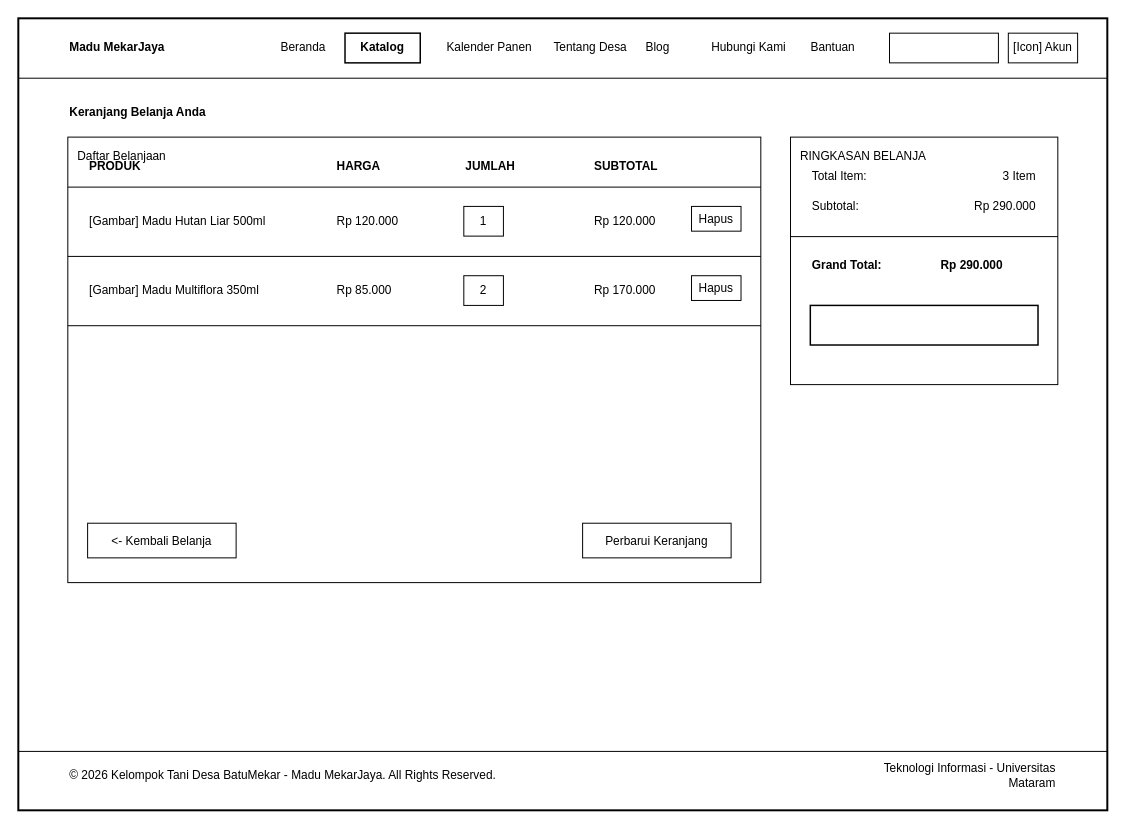
The diagram is 1125 pixels wide and 828 high, and some of its shapes have lost their labels. Each missing label, with the centre of its shape:
"[Icon] Keranjang (2)" belongs at [943,47].
"Lanjut ke Checkout" belongs at [923,324].
